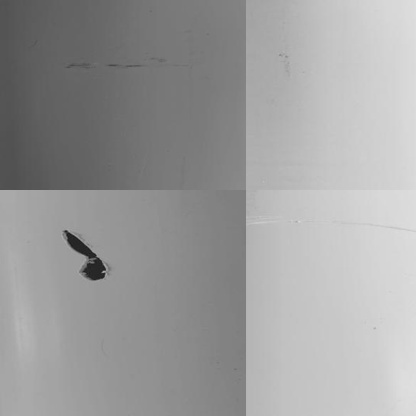kongdong: (55, 227, 113, 286)
